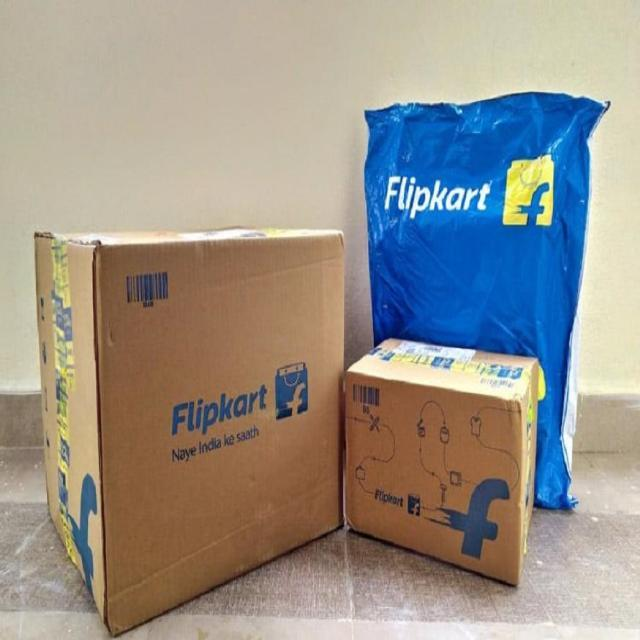cardboxes: (355, 94, 625, 352)
